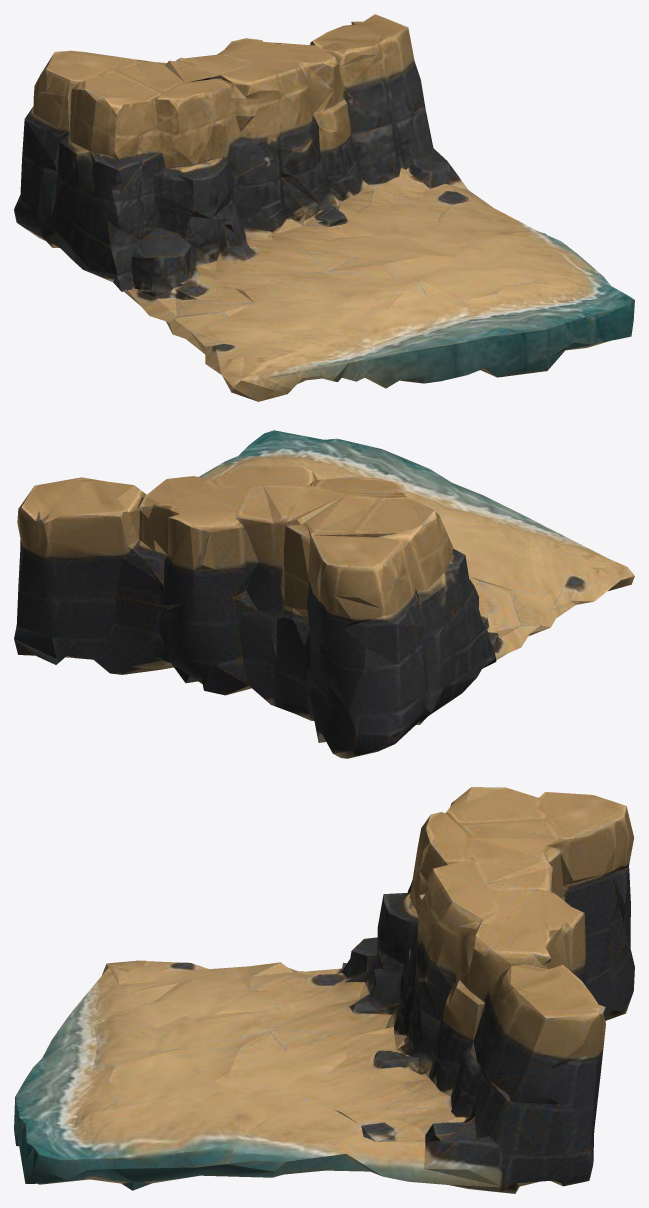
The model's file is cliff-block.lod.glb.
The picture shows the model from 3 angles, top to bottom: view 1: azimuth 30°, elevation 25°; view 2: azimuth 150°, elevation 25°; view 3: azimuth 270°, elevation 25°; orthographic projection. The views are drawn at different scales.
Parts seen in each view (by area): view 1: output_unwrapped; view 2: output_unwrapped; view 3: output_unwrapped.
Part boxes in pixels (bbox=[...]): output_unwrapped: bbox=[14, 14, 634, 401]; output_unwrapped: bbox=[14, 430, 634, 758]; output_unwrapped: bbox=[14, 787, 634, 1193].
Bounding box in the file's own units: 1.55 × 0.7413 × 1.9.
1 material, 1 textured.
